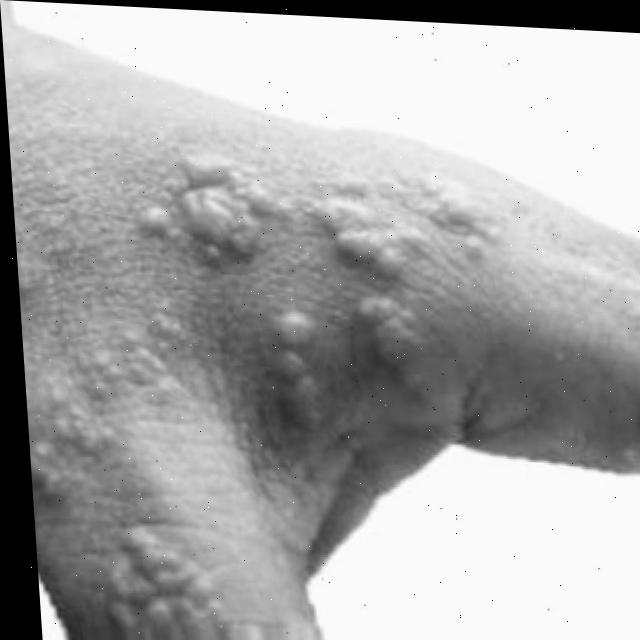Shingles: (123, 146, 513, 458), (97, 490, 227, 622)
